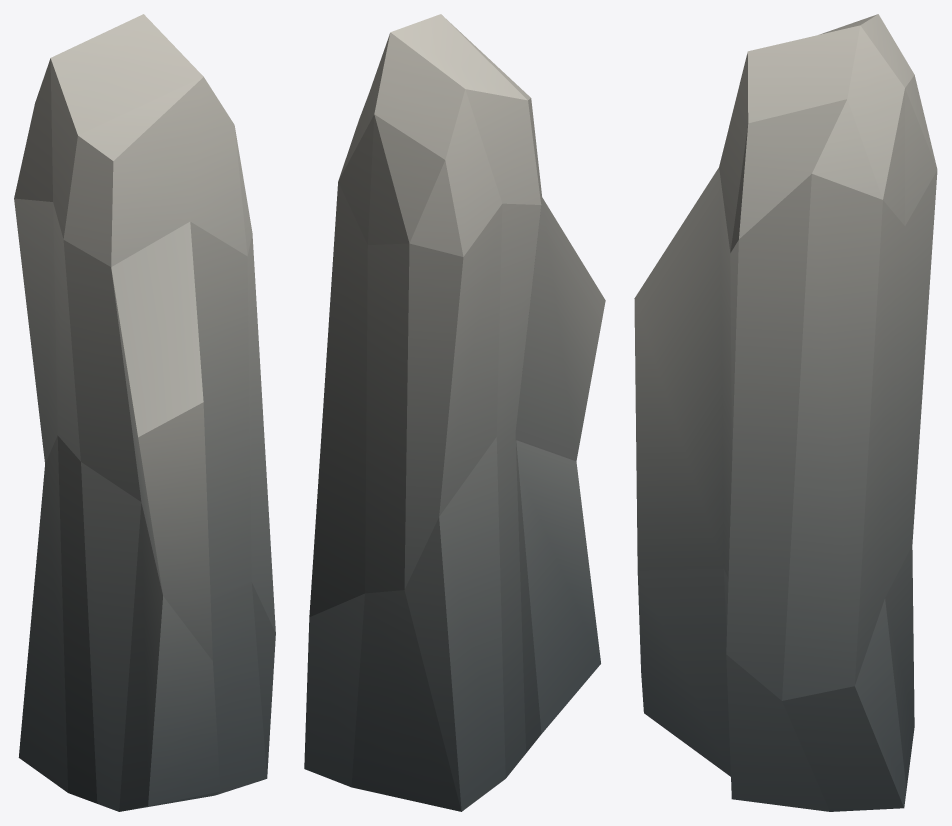
The model's file is Rock_Medium_D.fbx.
3 views of the same model, side by side, from view 1: azimuth 30°, elevation 25°; view 2: azimuth 150°, elevation 25°; view 3: azimuth 270°, elevation 25° (orthographic).
Parts seen in each view (by area): view 1: Rock_Medium_D; view 2: Rock_Medium_D; view 3: Rock_Medium_D.
Boxes of the visible parts, x1,y1,x2,y2 form: Rock_Medium_D: [14, 14, 275, 811]; Rock_Medium_D: [304, 14, 605, 811]; Rock_Medium_D: [634, 14, 937, 811].
Size of the model in its own units: 127 by 455 by 164.
